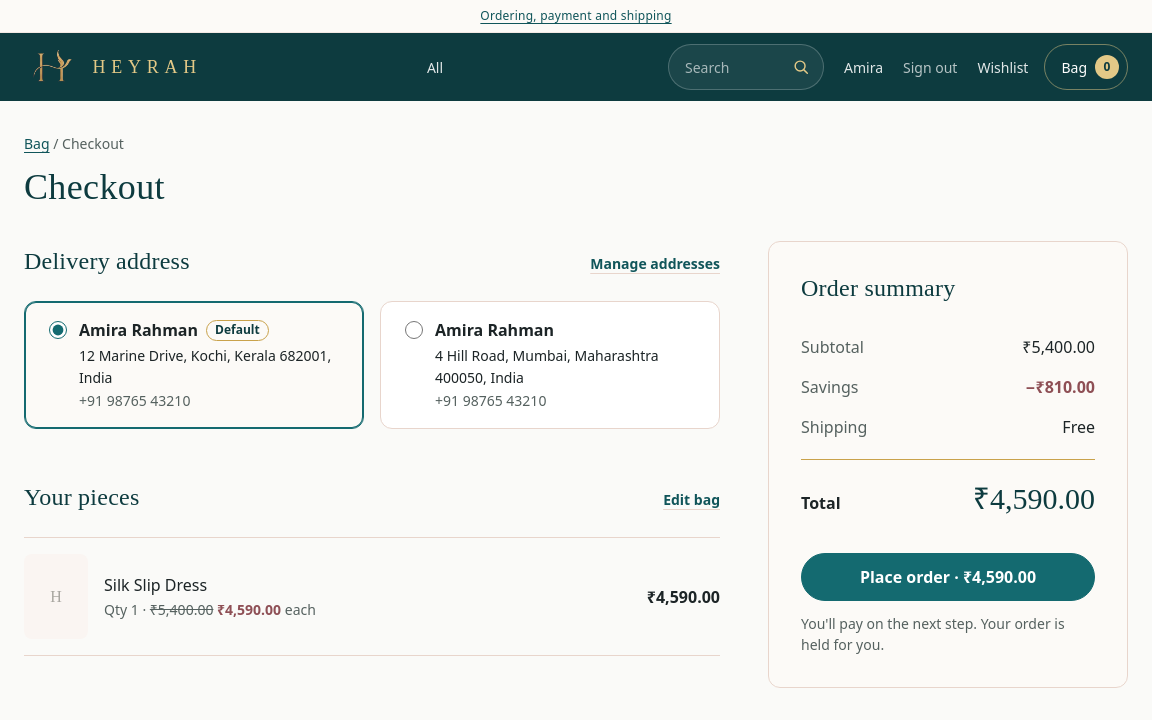
Scenario: checkout page › places the order with the address id and goes to the demo payment page
The width and height of the screenshot is (1152, 720).
Click the button with test id "place-order": (948,577) [801,553,1095,601]
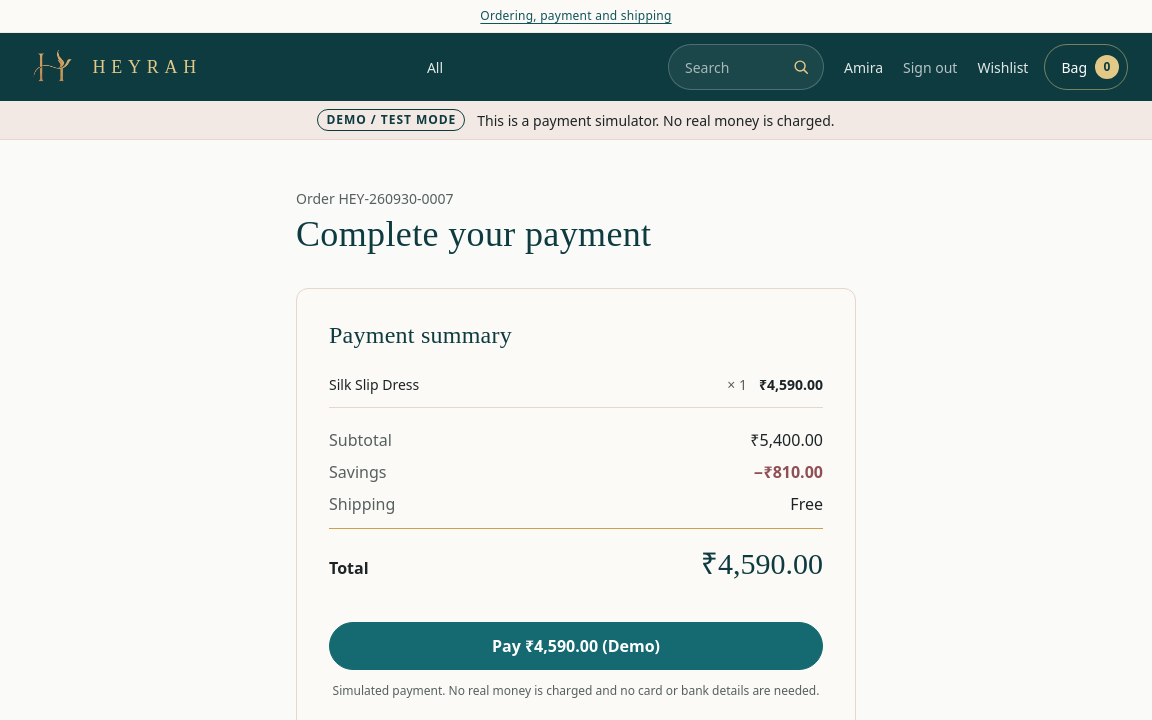
expect the heading "Complete your payment" is shown: met, box [296,214,652,254]
expect the element with test id "demo-banner" shows "DEMO / TEST MODE": met, box [326,111,456,128]
